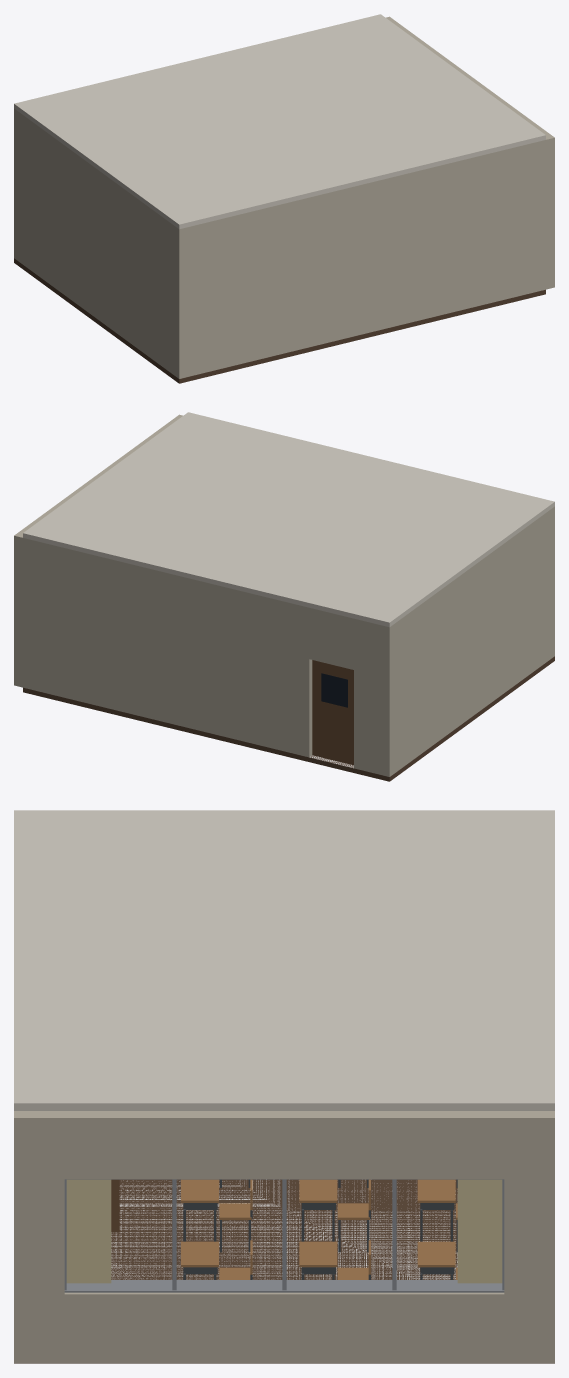
The model's file is classroom.glb.
3 views of the same model, one above another, from view 1: azimuth 30°, elevation 25°; view 2: azimuth 150°, elevation 25°; view 3: azimuth 270°, elevation 25° (orthographic). The views are drawn at different scales.
Parts seen in each view (by area): view 1: Shell; view 2: Shell, Door; view 3: Shell, WindowFrames, Desks, Walk_Classroom.
Part boxes in pixels (left/top/right/bottom): Shell: left=14, top=14, right=554, bottom=383; Shell: left=14, top=412, right=554, bottom=781; Door: left=312, top=660, right=353, bottom=765; Shell: left=14, top=810, right=554, bottom=1363; WindowFrames: left=64, top=1179, right=504, bottom=1292; Desks: left=181, top=1179, right=457, bottom=1279; Walk_Classroom: left=111, top=1179, right=457, bottom=1279.
Bounding box in the file's own units: 8.4 × 3.4 × 6.4.
